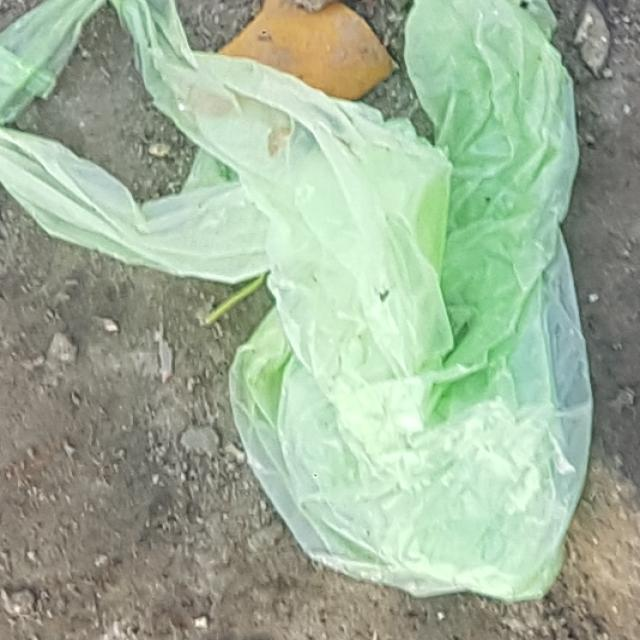general: (0, 0, 596, 603)
